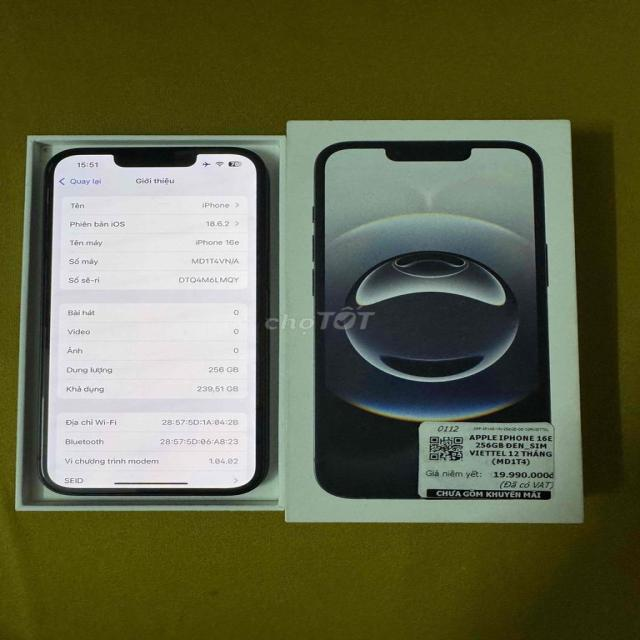gen_16: (28, 145, 269, 499)
